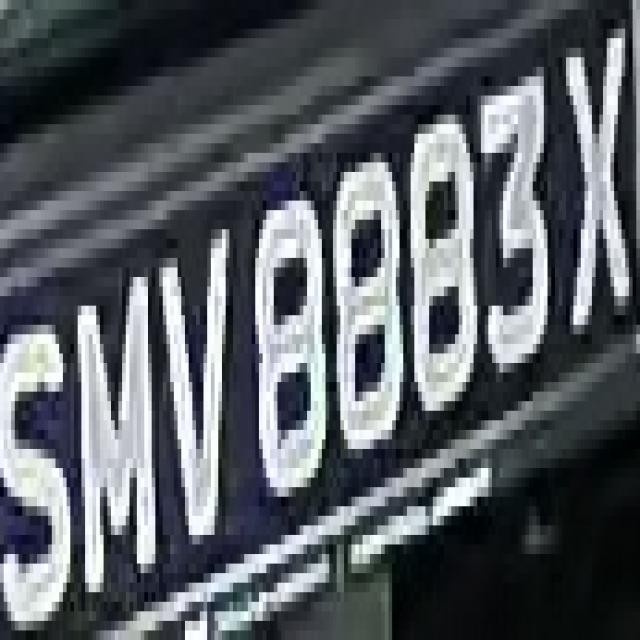3: (474, 9, 551, 410)
8: (318, 105, 414, 478), (392, 96, 485, 458), (244, 172, 333, 535)
M: (70, 248, 166, 602)
S: (0, 4, 1, 10)
V: (148, 191, 240, 573)
X: (555, 0, 633, 344)
